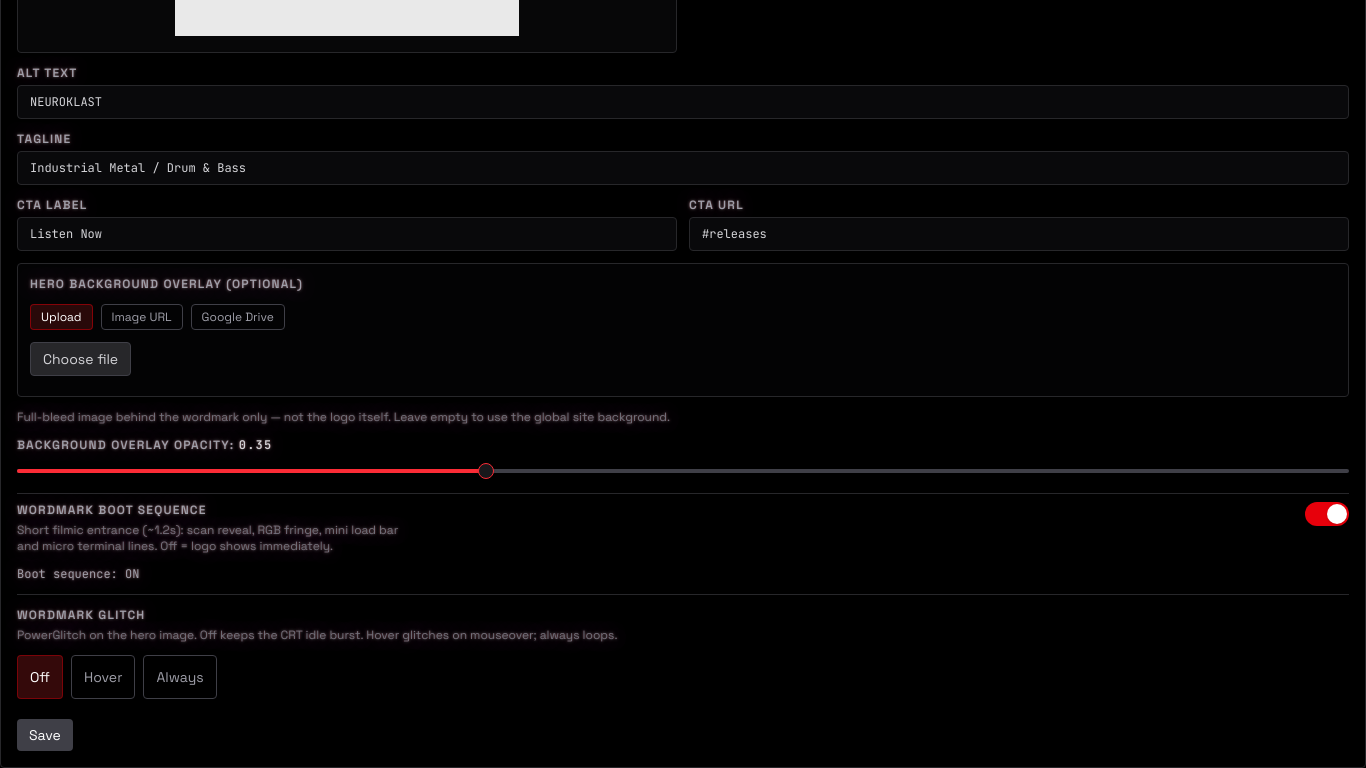
Test: hero reducer parent integration › preserves the error state and skips refresh when persistence fails
(page scrolled)
Click the button "Save".
click(45, 735)  # box x1=17 y1=719 x2=73 y2=751
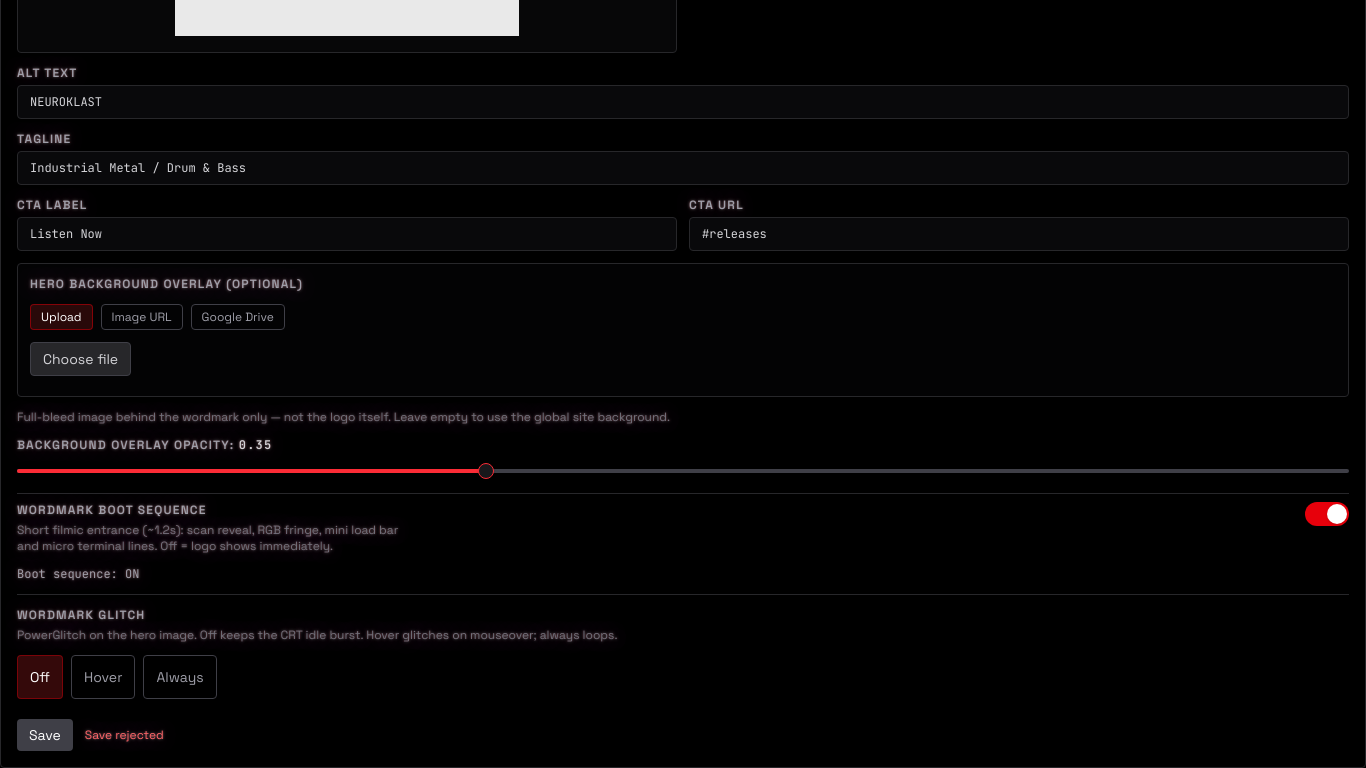
Now the text "Save rejected" is shown, box x1=85 y1=727 x2=164 y2=743
